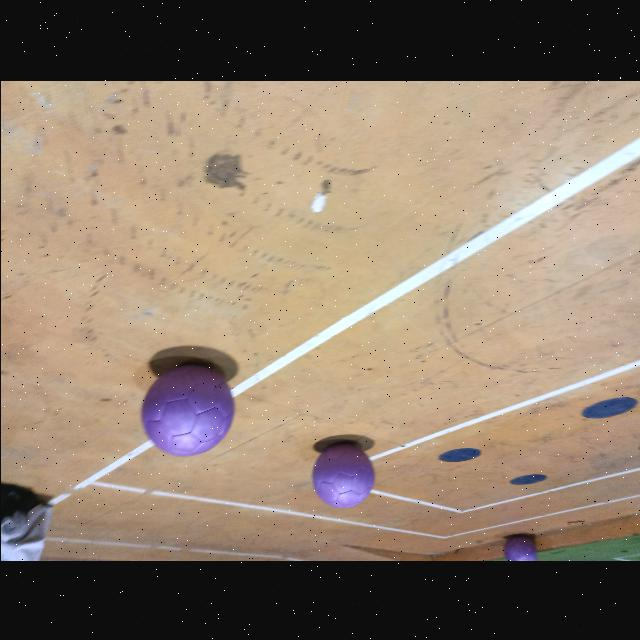P: (141, 364, 233, 456), (312, 443, 372, 507), (504, 534, 536, 560)
